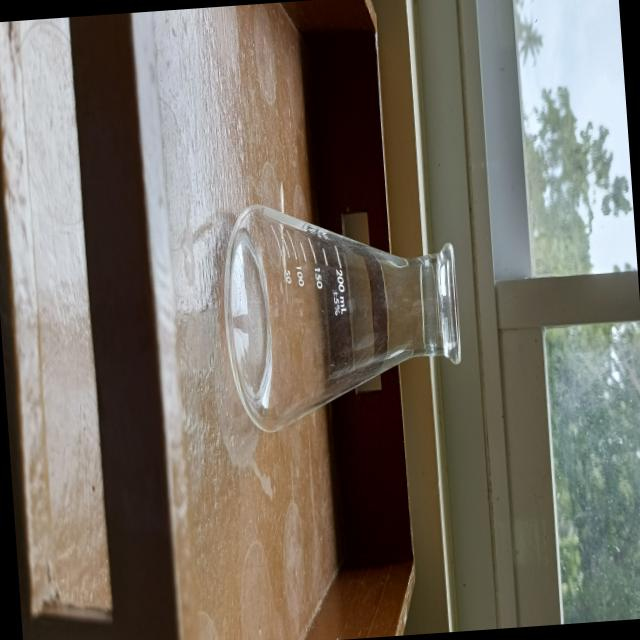erlenmeyer_flask: (212, 177, 474, 446)
